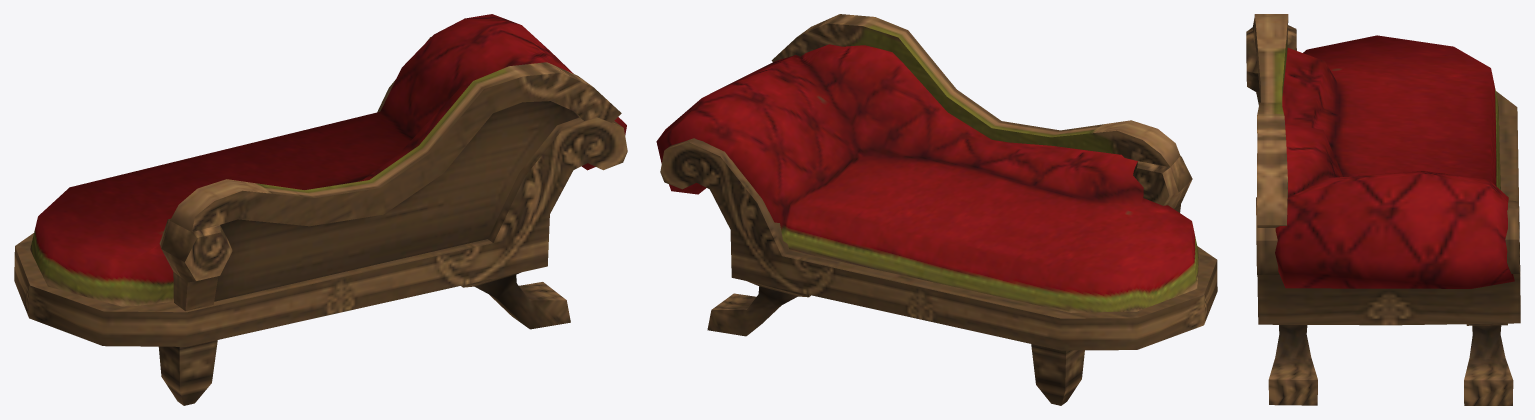
The model's file is d_yz_shouyou_shafa02_qt.FBX.
3 views of the same model, side by side, from view 1: azimuth 30°, elevation 25°; view 2: azimuth 150°, elevation 25°; view 3: azimuth 270°, elevation 25° (orthographic). The views are drawn at different scales.
Parts seen in each view (by area): view 1: d_yz_shouyou_shafa01_qt; view 2: d_yz_shouyou_shafa01_qt; view 3: d_yz_shouyou_shafa01_qt.
Boxes of the visible parts, x1=… form: d_yz_shouyou_shafa01_qt: x1=14, y1=14, x2=627, y2=405; d_yz_shouyou_shafa01_qt: x1=656, y1=14, x2=1217, y2=405; d_yz_shouyou_shafa01_qt: x1=1246, y1=14, x2=1520, y2=405.
Bounding box in the file's own units: 113 × 51.37 × 48.7.
